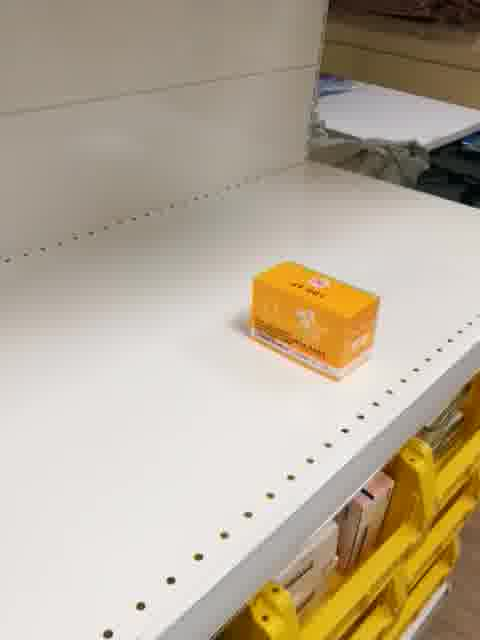jasminetea: (248, 259, 380, 383)
